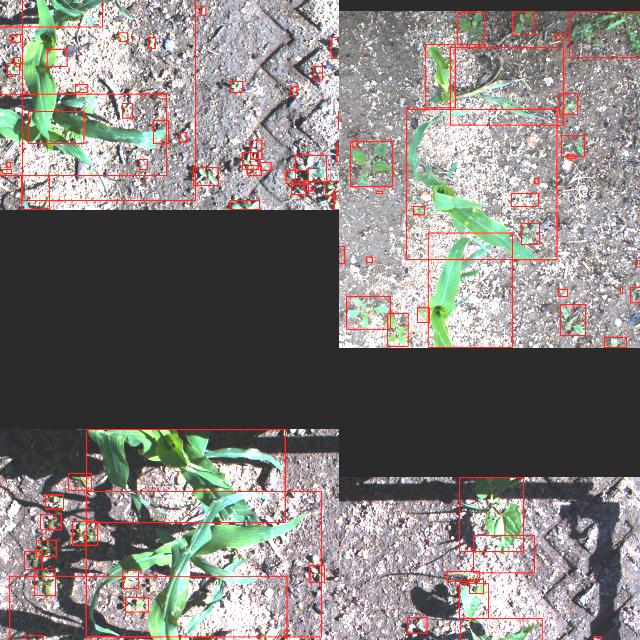crop: (21, 0, 194, 201), (86, 491, 320, 637), (406, 108, 556, 260), (86, 429, 284, 523), (9, 576, 286, 640), (0, 94, 166, 176), (427, 232, 511, 348), (449, 47, 563, 125), (459, 476, 523, 552), (425, 44, 455, 108), (459, 618, 541, 640), (458, 584, 488, 618), (21, 176, 49, 210)
weed: (569, 11, 640, 57), (472, 535, 534, 573), (350, 141, 392, 187), (27, 112, 83, 144), (346, 296, 390, 330), (456, 12, 484, 44), (294, 155, 326, 181), (560, 304, 584, 336), (387, 314, 408, 346), (72, 521, 96, 545), (512, 11, 534, 35), (34, 569, 54, 595), (560, 136, 584, 156), (192, 168, 218, 186), (68, 472, 90, 490), (152, 120, 168, 144), (521, 223, 539, 244), (46, 49, 66, 67), (559, 94, 577, 114), (510, 194, 538, 206), (124, 598, 148, 612), (446, 571, 479, 581), (23, 551, 41, 569), (35, 540, 55, 556), (40, 514, 60, 530), (286, 170, 308, 184), (229, 200, 259, 210), (122, 570, 138, 588), (406, 618, 426, 632), (241, 153, 257, 170), (308, 566, 324, 582), (45, 495, 63, 509), (249, 140, 261, 160), (468, 578, 482, 594), (603, 338, 625, 348), (325, 181, 339, 196), (330, 37, 339, 58), (290, 185, 308, 195), (629, 287, 640, 303), (417, 308, 429, 322), (6, 63, 18, 75), (312, 66, 322, 80), (247, 166, 261, 176), (121, 104, 131, 118), (230, 81, 242, 92), (333, 190, 339, 209), (260, 162, 270, 172), (74, 84, 86, 92), (119, 32, 128, 42), (24, 635, 42, 640), (412, 206, 423, 214), (304, 182, 314, 190), (178, 132, 186, 142), (139, 160, 147, 170), (10, 34, 20, 42), (558, 289, 566, 297), (148, 38, 154, 48), (13, 57, 19, 67), (554, 33, 564, 39), (290, 86, 296, 95), (199, 7, 205, 16), (634, 260, 640, 268), (1, 170, 10, 174), (566, 155, 574, 159), (592, 636, 600, 640), (6, 162, 10, 168), (534, 178, 538, 184), (365, 258, 371, 262), (352, 141, 356, 147), (375, 190, 381, 193), (620, 288, 622, 294)
